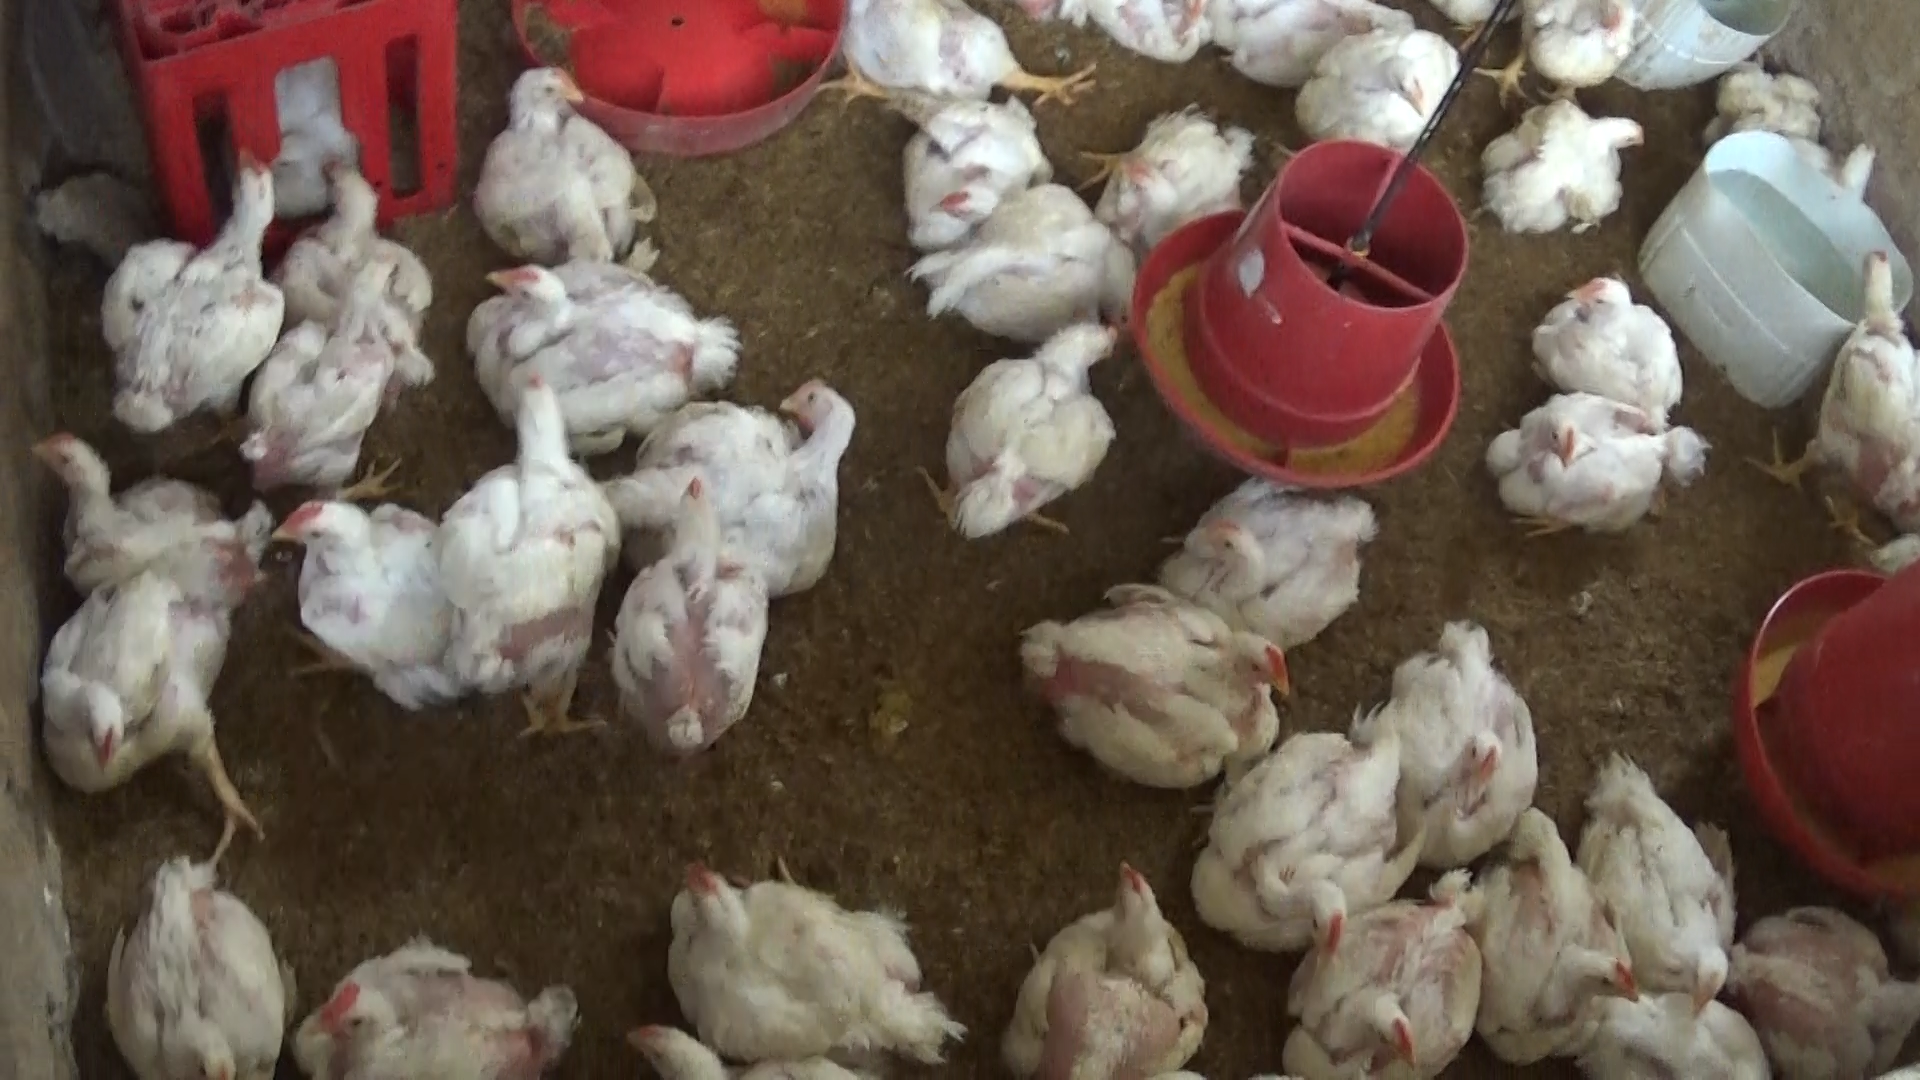Pollos: (28, 567, 281, 857), (650, 837, 960, 1068), (448, 233, 738, 456), (607, 359, 874, 599), (1010, 572, 1286, 804), (1193, 719, 1437, 975), (600, 468, 779, 789), (262, 477, 498, 713), (91, 142, 286, 425), (465, 368, 612, 744), (1000, 839, 1215, 1080), (1756, 225, 1920, 541), (280, 920, 591, 1080), (477, 49, 671, 305), (1357, 612, 1563, 852), (915, 320, 1127, 549), (91, 828, 280, 1080), (1273, 876, 1495, 1079), (1590, 731, 1749, 1015), (243, 241, 417, 495), (1174, 447, 1385, 653), (16, 413, 261, 583), (297, 132, 460, 378), (1490, 787, 1626, 1080), (836, 62, 1069, 232), (1726, 893, 1920, 1080), (1490, 386, 1705, 549), (1042, 96, 1259, 255), (920, 175, 1137, 334), (808, 0, 1091, 108), (1522, 266, 1685, 448), (1461, 105, 1667, 241), (1726, 44, 1884, 196), (1288, 28, 1470, 157), (1490, 0, 1633, 108), (1096, 0, 1230, 71)
